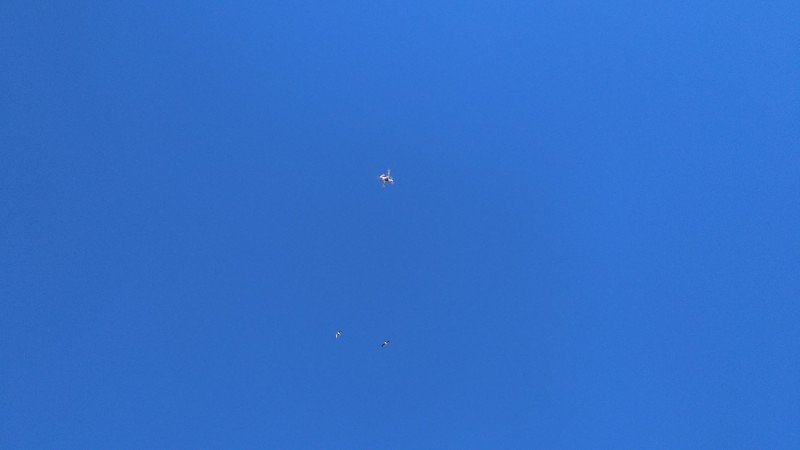drone: (377, 169, 395, 187)
